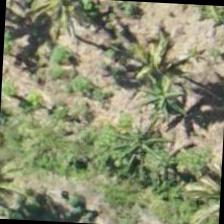Kelapa_Sawit: (102, 20, 197, 116), (13, 0, 106, 49)
